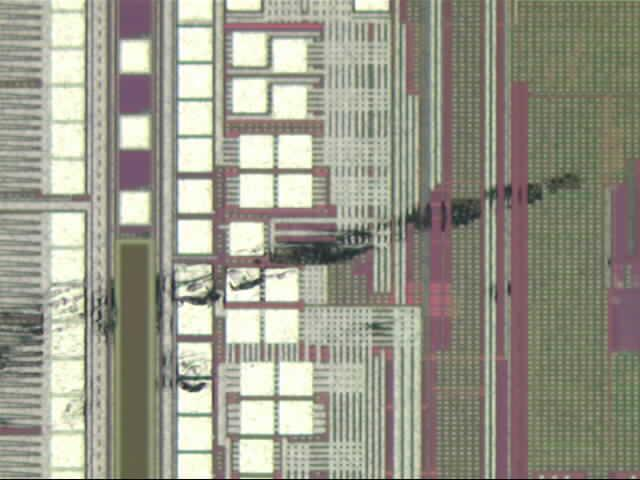SCRATCH: (1, 171, 618, 435)
